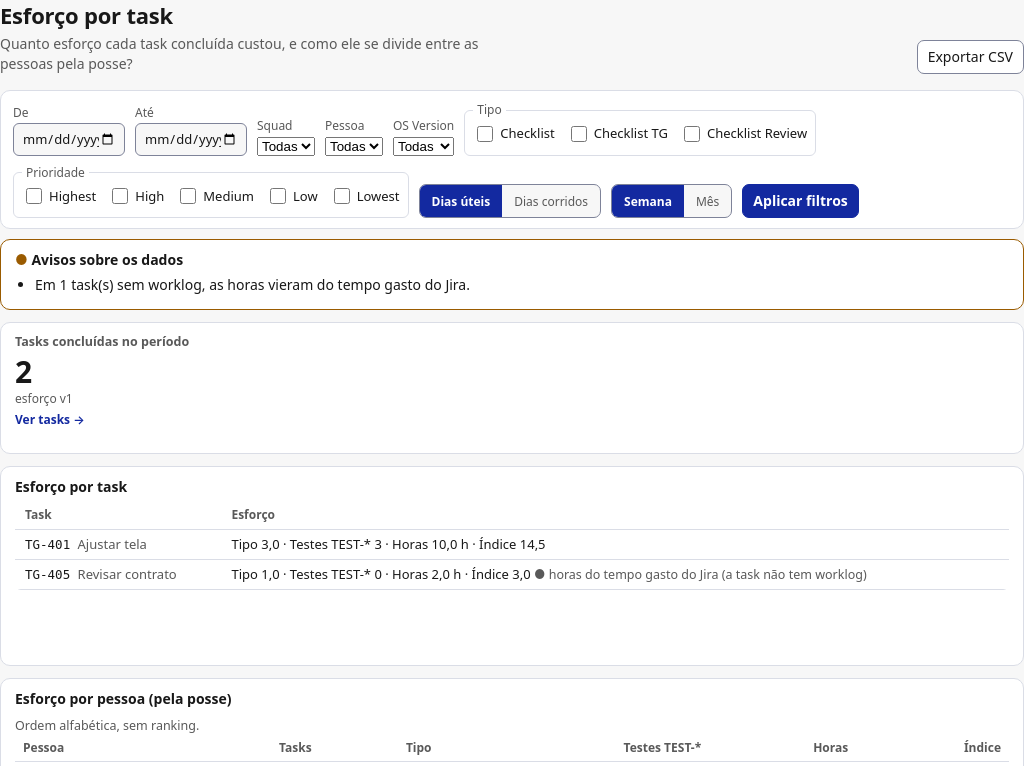
Test: tela Esforço por task fechada › kpiAbreAGavetaComMesmoTamanho
Step 1. Click the button named "Tasks concluídas no período" → x=44, y=398, box 15,355 -> 1009,429
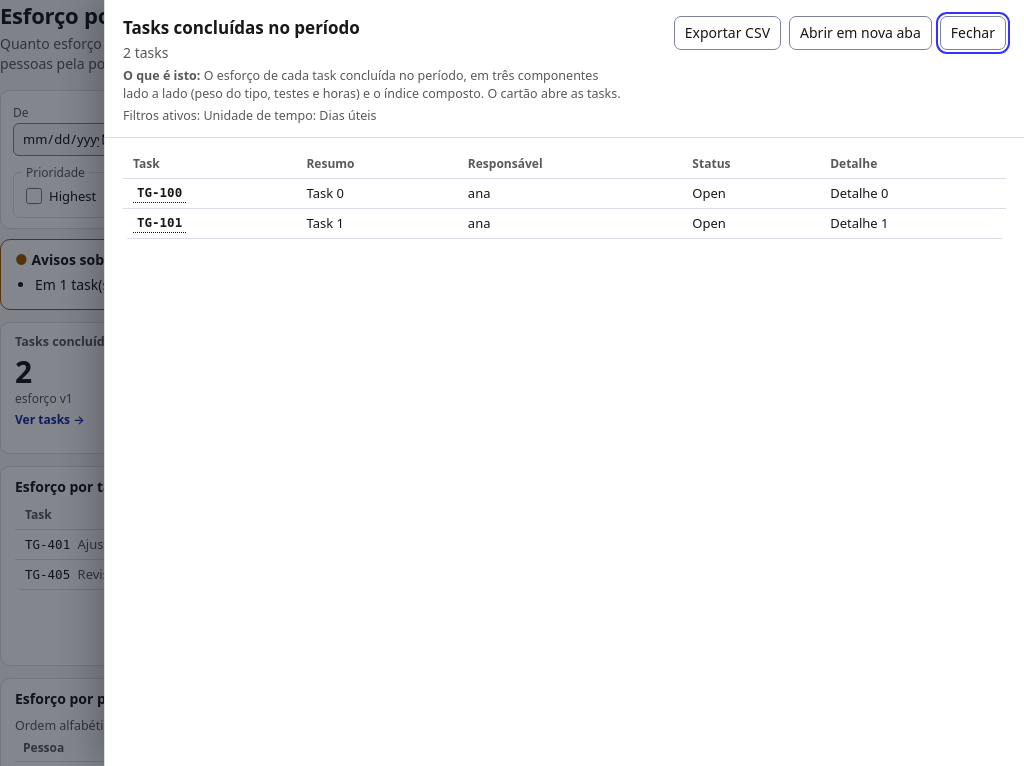
Expected: the text "2 tasks" is shown, 123,43 -> 168,62
